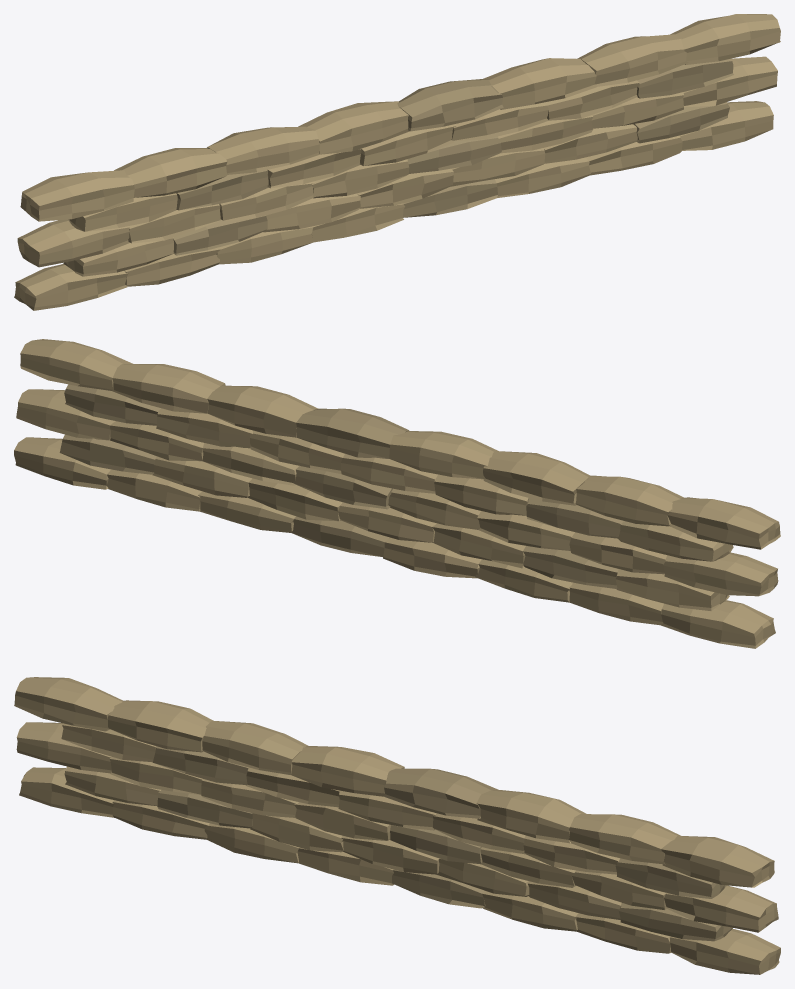
File: sandbag-wall.glb
3 views of the same model, one above another, from view 1: azimuth 30°, elevation 25°; view 2: azimuth 150°, elevation 25°; view 3: azimuth 330°, elevation 25° (orthographic).
Visible parts, largest first — view 1: sandbag-wall; view 2: sandbag-wall; view 3: sandbag-wall.
Boxes of the visible parts, <box> form: sandbag-wall: <box>14,14,780,310</box>; sandbag-wall: <box>14,339,780,648</box>; sandbag-wall: <box>14,677,780,974</box>.
Size of the model in its own units: 4.2 by 0.656 by 0.3077.
